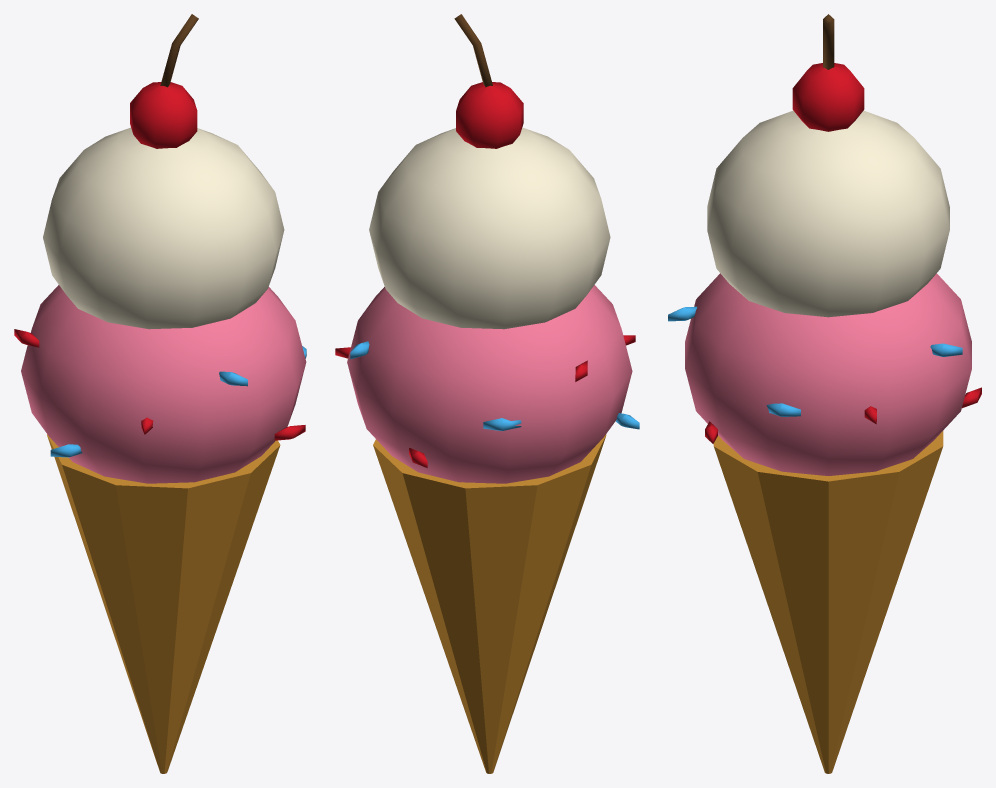
File: hand_ice.glb
3 views of the same model, side by side, from view 1: azimuth 30°, elevation 25°; view 2: azimuth 150°, elevation 25°; view 3: azimuth 270°, elevation 25° (orthographic). The views are drawn at different scales.
Visible parts, largest first — view 1: hand_ice_q; view 2: hand_ice_q; view 3: hand_ice_q.
Part boxes in pixels (left/top/right/bottom): hand_ice_q: left=14, top=14, right=306, bottom=773; hand_ice_q: left=335, top=14, right=639, bottom=773; hand_ice_q: left=668, top=14, right=981, bottom=773.
Size of the model in its own units: 0.8263 by 2.26 by 0.8319.
